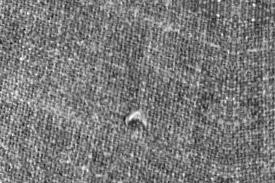snag: (121, 108, 152, 132)
